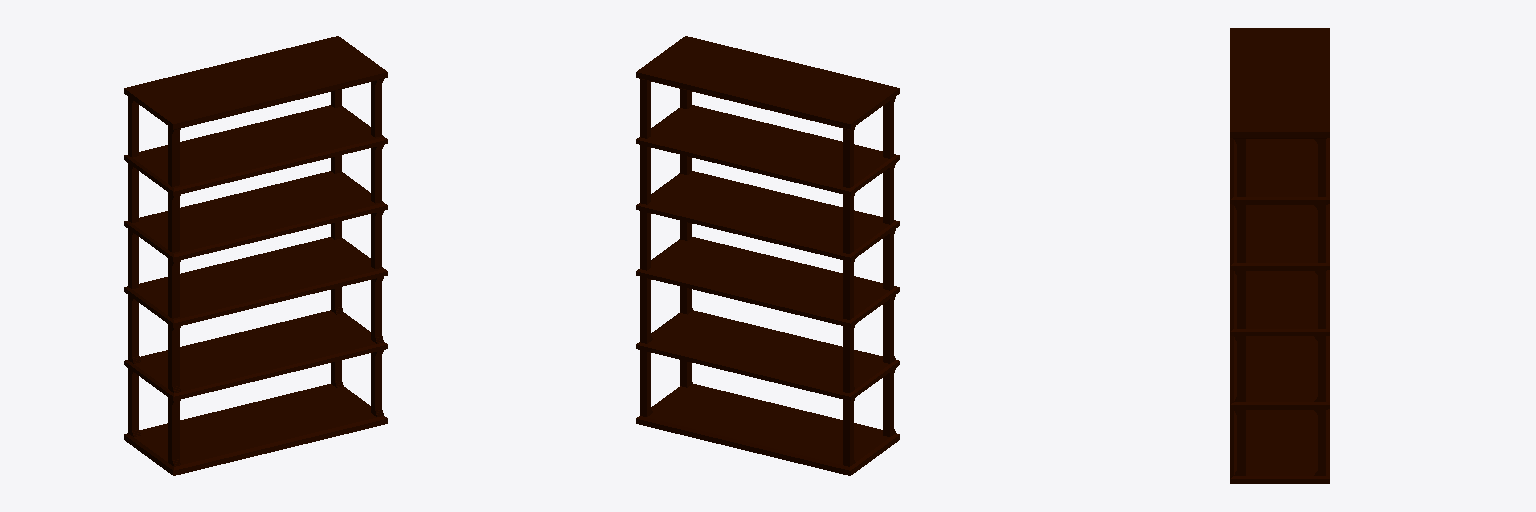
File: Repisera2.obj
The picture shows the model from 3 angles: view 1: azimuth 30°, elevation 25°; view 2: azimuth 150°, elevation 25°; view 3: azimuth 270°, elevation 25°; orthographic projection.
Parts seen in each view (by area): view 1: Repisera_2:Repisera_2; view 2: Repisera_2:Repisera_2; view 3: Repisera_2:Repisera_2.
Part boxes in pixels (bbox=[...]): Repisera_2:Repisera_2: bbox=[124, 36, 387, 475]; Repisera_2:Repisera_2: bbox=[636, 36, 899, 475]; Repisera_2:Repisera_2: bbox=[1230, 28, 1329, 483].
Bounding box in the file's own units: 15 × 23.5 × 6.